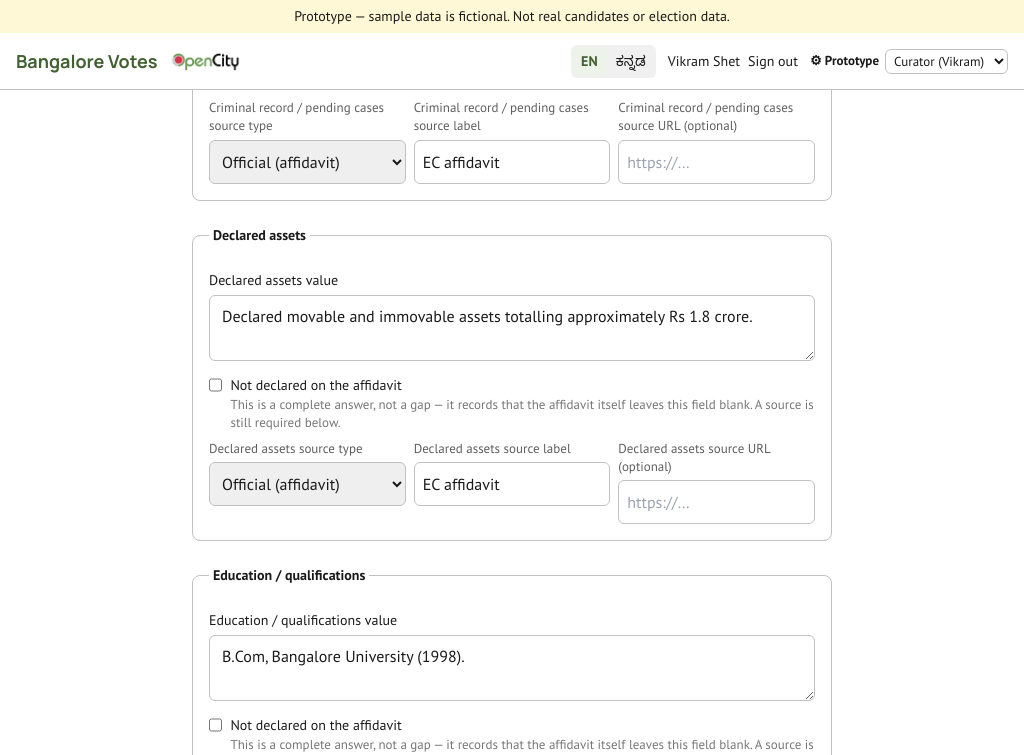
Test: a "not declared" field still requires a source — save is refused if the source label is cleared
The width and height of the screenshot is (1024, 755).
(page scrolled)
Step 1. Click the 1st checkbox labelled "Not declared on the affidavit" → (216, 385), box [209,377,222,393]
(page scrolled)
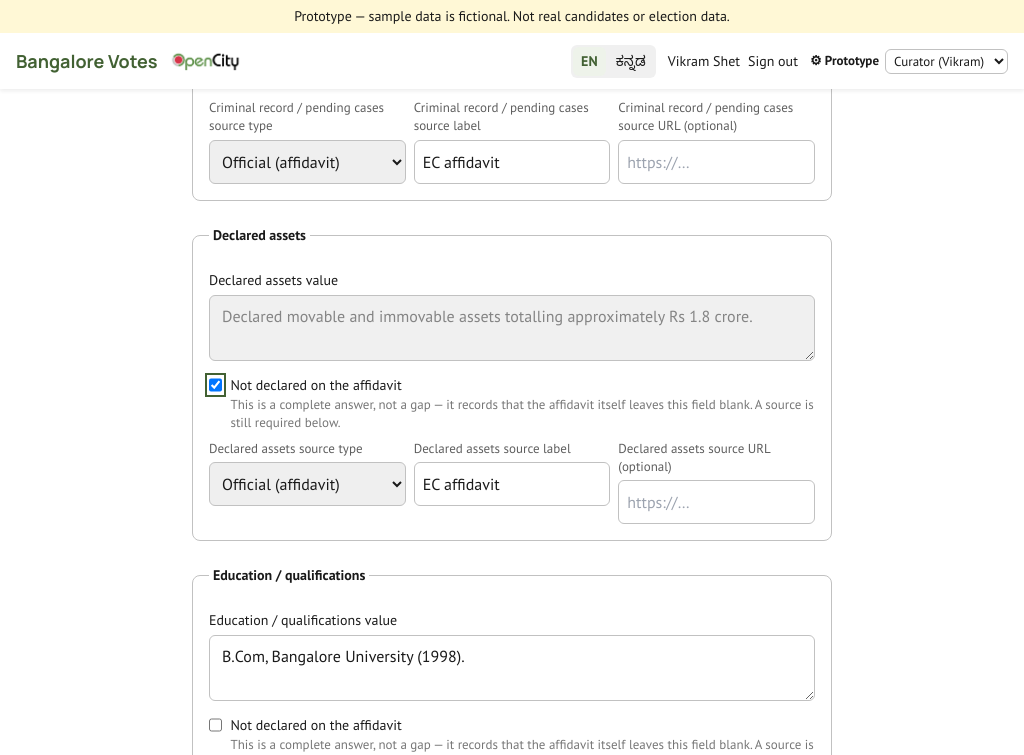
Step 2. Clear the field labelled "Declared assets source label" → (512, 484), box [414,462,610,506]
(page scrolled)
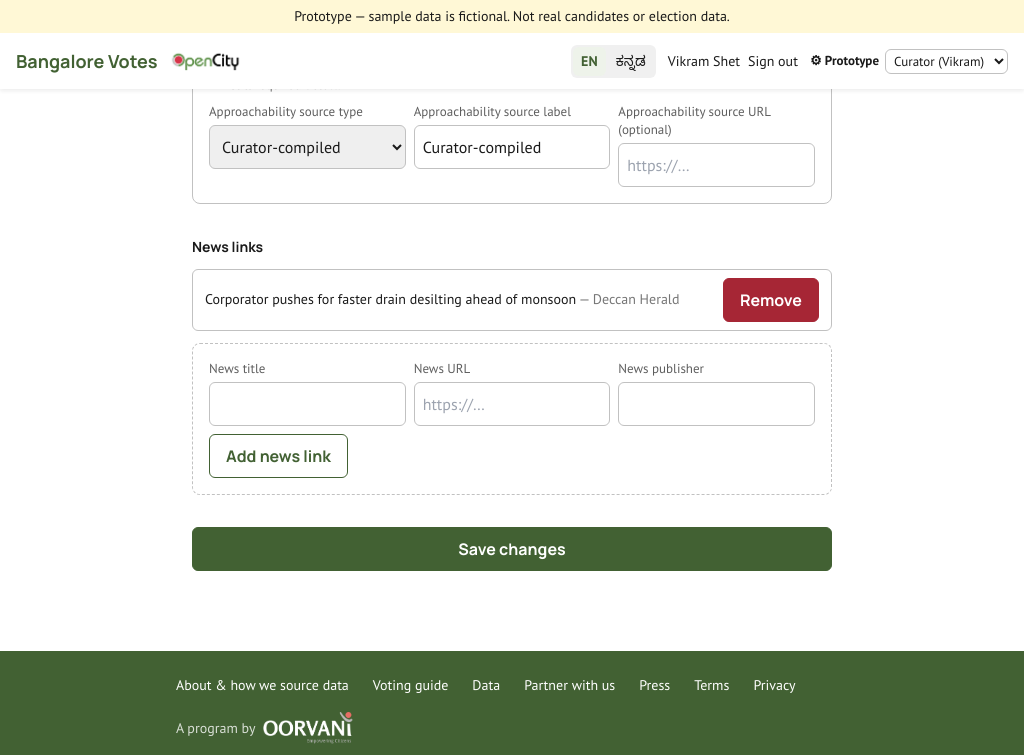
Step 3. Click the button "Save changes" → (512, 549), box [192,527,832,571]
(page scrolled)
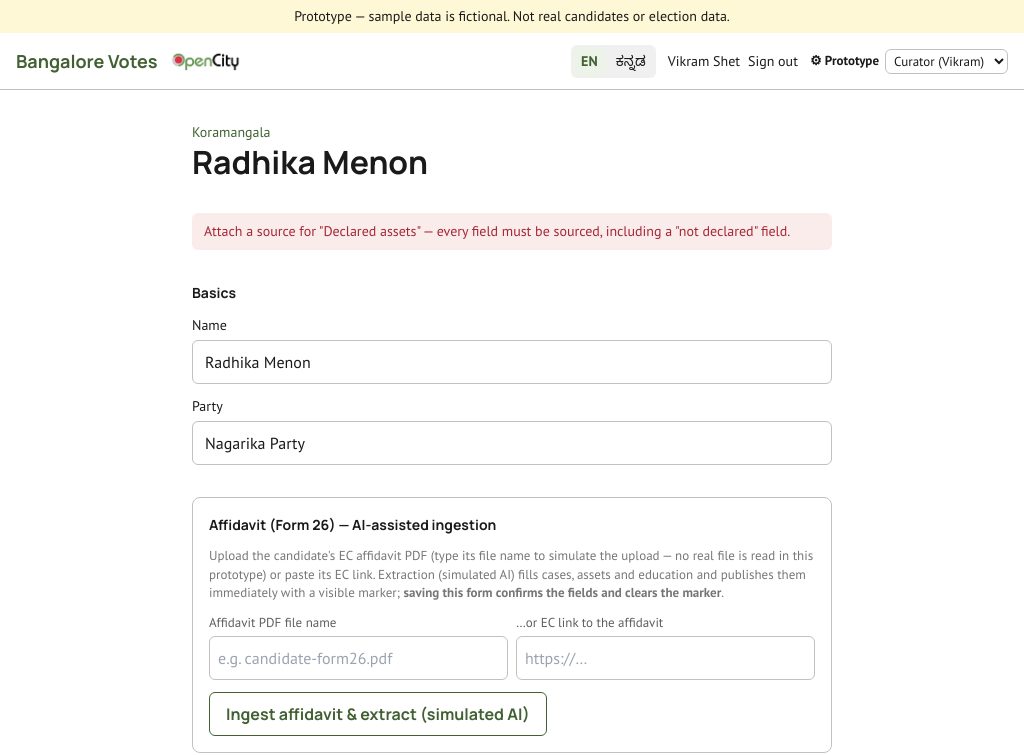
Check: the message shows "source", box [204,222,790,240]
